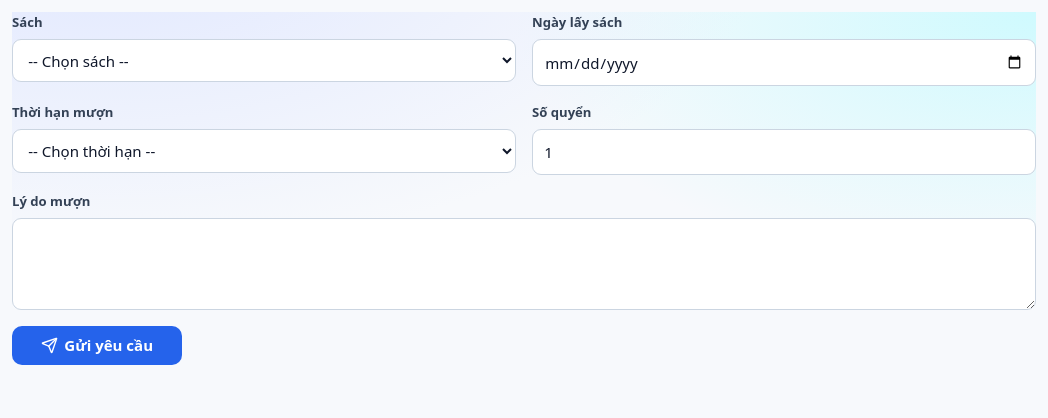
Scenario: LoanForm › hiện thông báo hết bản và giữ lại lý do đã nhập
The image size is (1048, 418).
Click the button "Gửi yêu cầu".
click(97, 345)  # box [12,326,182,365]
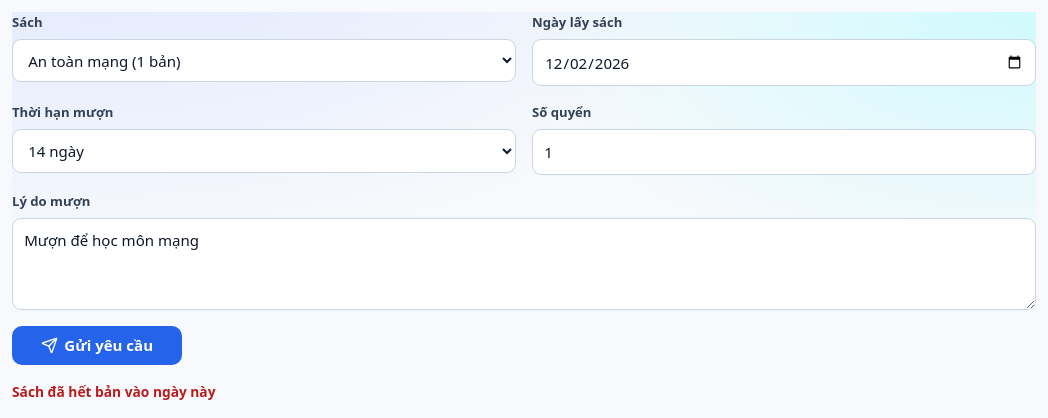
Expected: the text "Sách đã hết bản vào ngày này" is shown, [12,382,216,401]
Expected: the text box labelled "Lý do mượn" holds "Mượn để học môn mạng", [12,218,1036,310]
